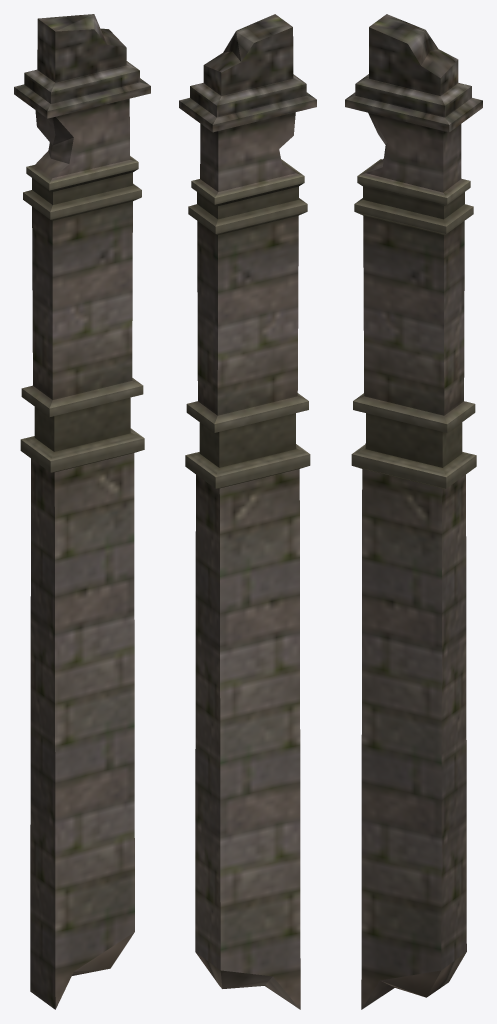
The model's file is SM_zhucheng_poqiang02.FBX.
3 views of the same model, side by side, from view 1: azimuth 30°, elevation 25°; view 2: azimuth 210°, elevation 25°; view 3: azimuth 330°, elevation 25° (orthographic).
Parts seen in each view (by area): view 1: SM_zhucheng_poqiang02; view 2: SM_zhucheng_poqiang02; view 3: SM_zhucheng_poqiang02.
Part boxes in pixels (x1,y1,x2,y2): SM_zhucheng_poqiang02: [14, 14, 150, 1009]; SM_zhucheng_poqiang02: [179, 14, 316, 1009]; SM_zhucheng_poqiang02: [345, 14, 482, 1009].
Bounding box in the file's own units: 32.14 × 289 × 17.92.
